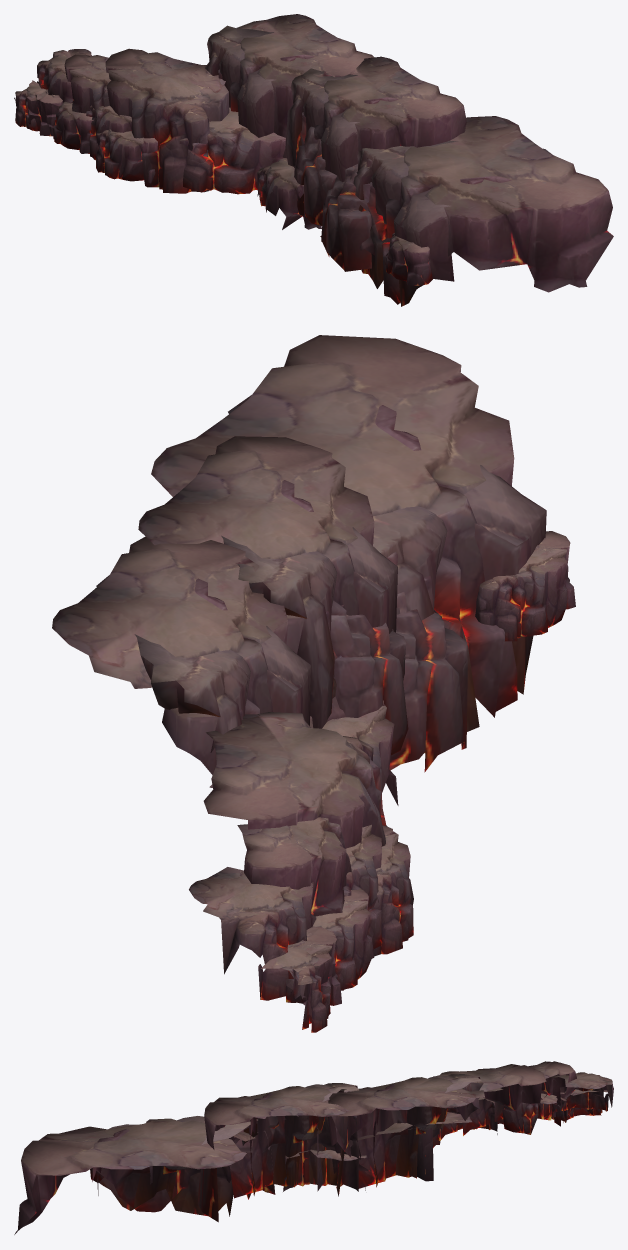
File: yanshi7_1.fbx
3 views of the same model, one above another, from view 1: azimuth 30°, elevation 25°; view 2: azimuth 150°, elevation 25°; view 3: azimuth 270°, elevation 25° (orthographic). The views are drawn at different scales.
Parts seen in each view (by area): view 1: yanshi7_1; view 2: yanshi7_1; view 3: yanshi7_1.
Boxes of the visible parts, left/top/right/bottom form: yanshi7_1: left=14, top=14, right=613, bottom=306; yanshi7_1: left=52, top=335, right=575, bottom=1032; yanshi7_1: left=14, top=1061, right=613, bottom=1234.
Size of the model in its own units: 9242 by 4421 by 16933.
